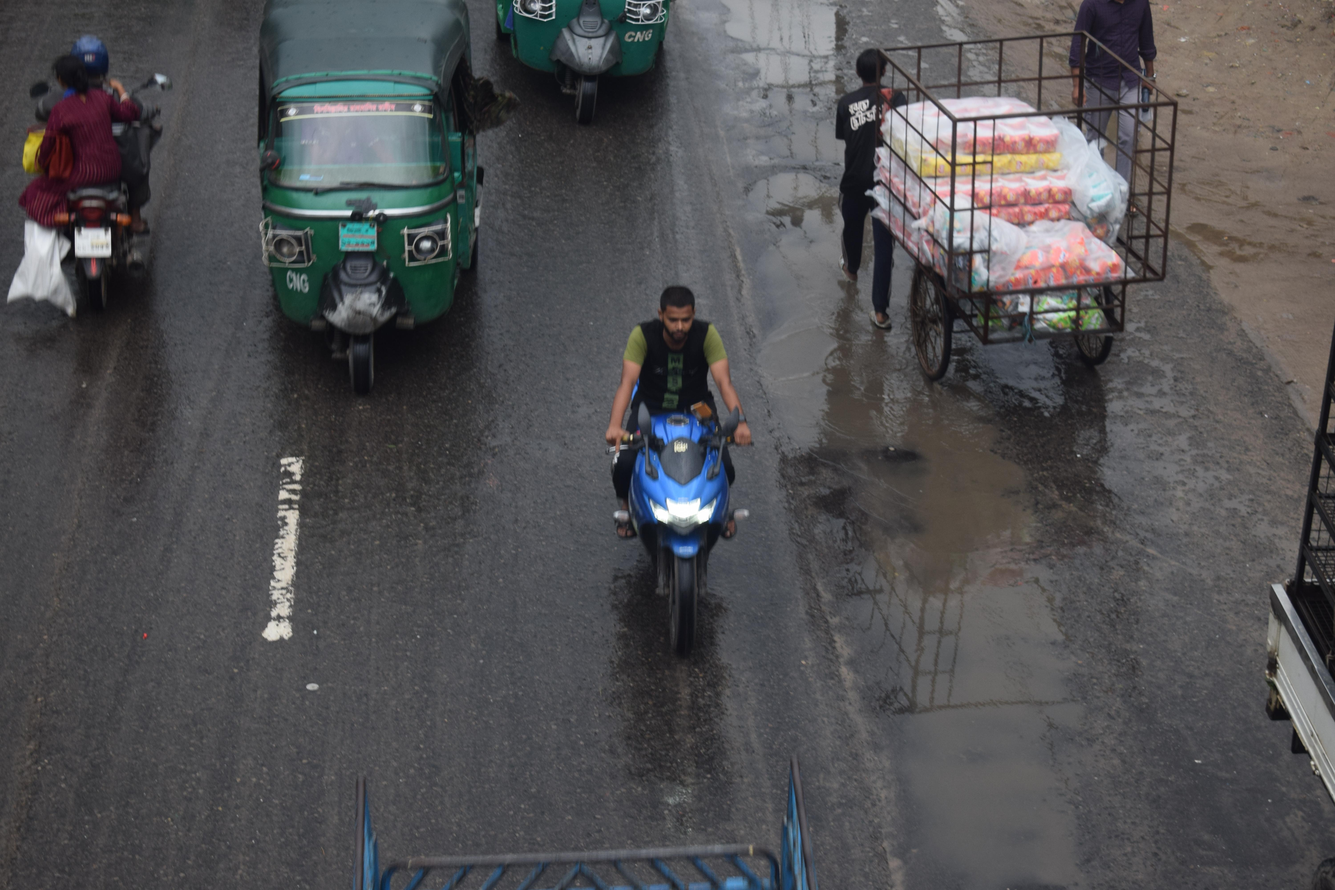Bike: (522, 216, 829, 733), (0, 4, 202, 395)
